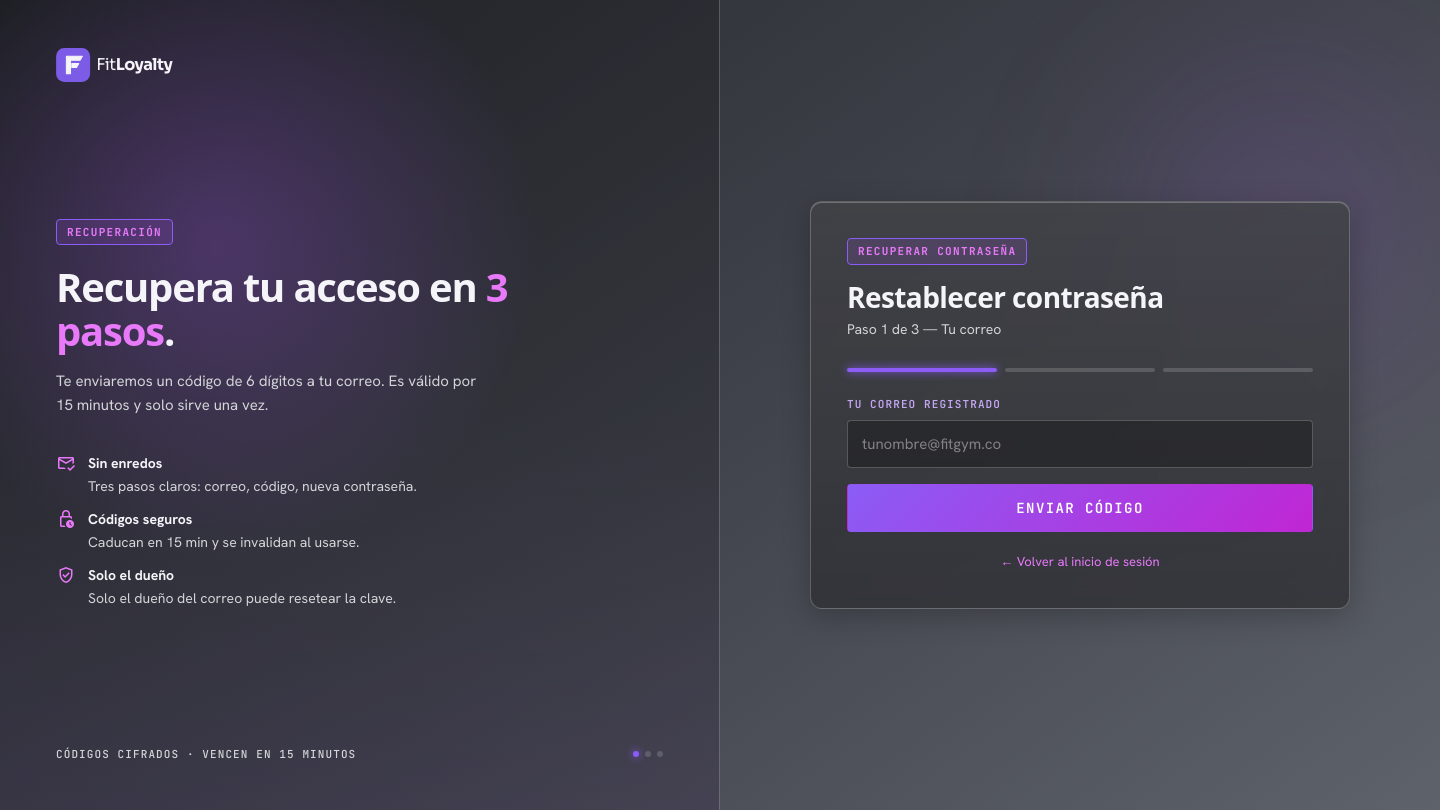
it: ForgotPasswordPage: pedir el codigo › should send the email and ask for the code when the person sends the email
Type "ana@gym.co" into the field labelled "Tu correo registrado". click: (1080, 444)
box: [847,420,1313,468]
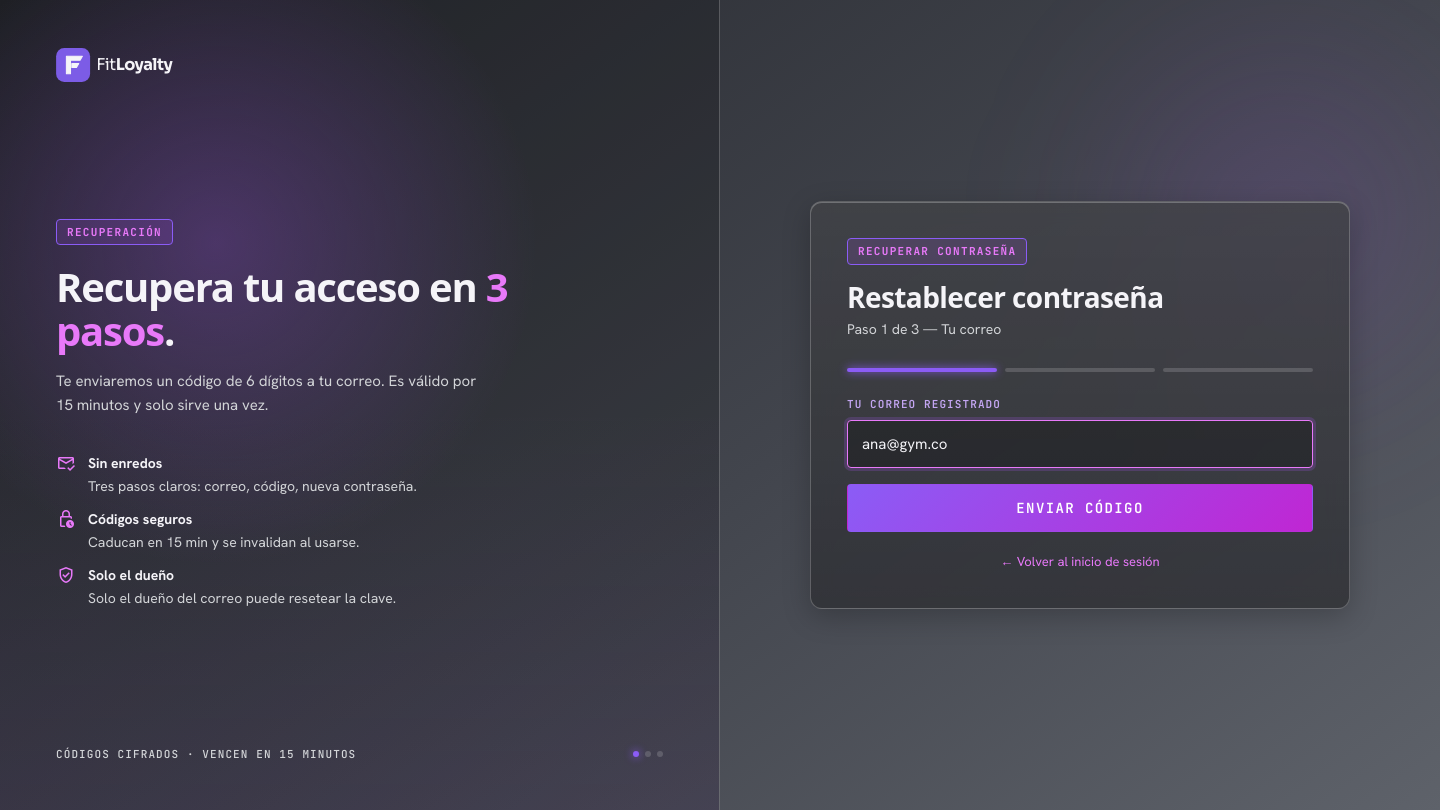
Click the button "Enviar código". click: (1080, 508)
box: [847,484,1313,532]
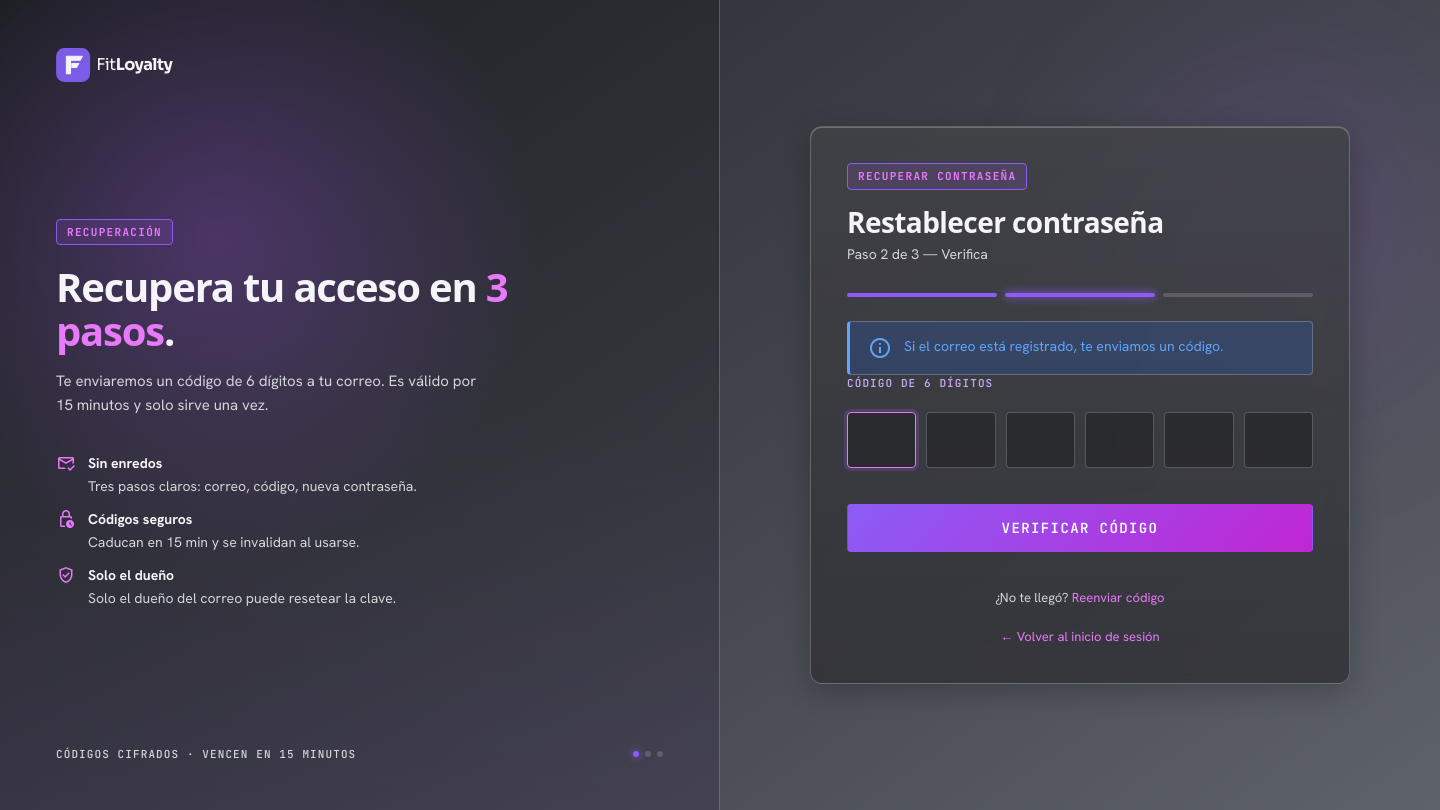
Expected: the text "Paso 2 de 3 — Verifica" is shown, [847,245,988,263]
Expected: the message reads "Si el correo está registrado, te enviamos un código.", [904,337,1224,355]
Expected: the field named "Dígito 1 de 6" is shown, [847,412,916,468]
